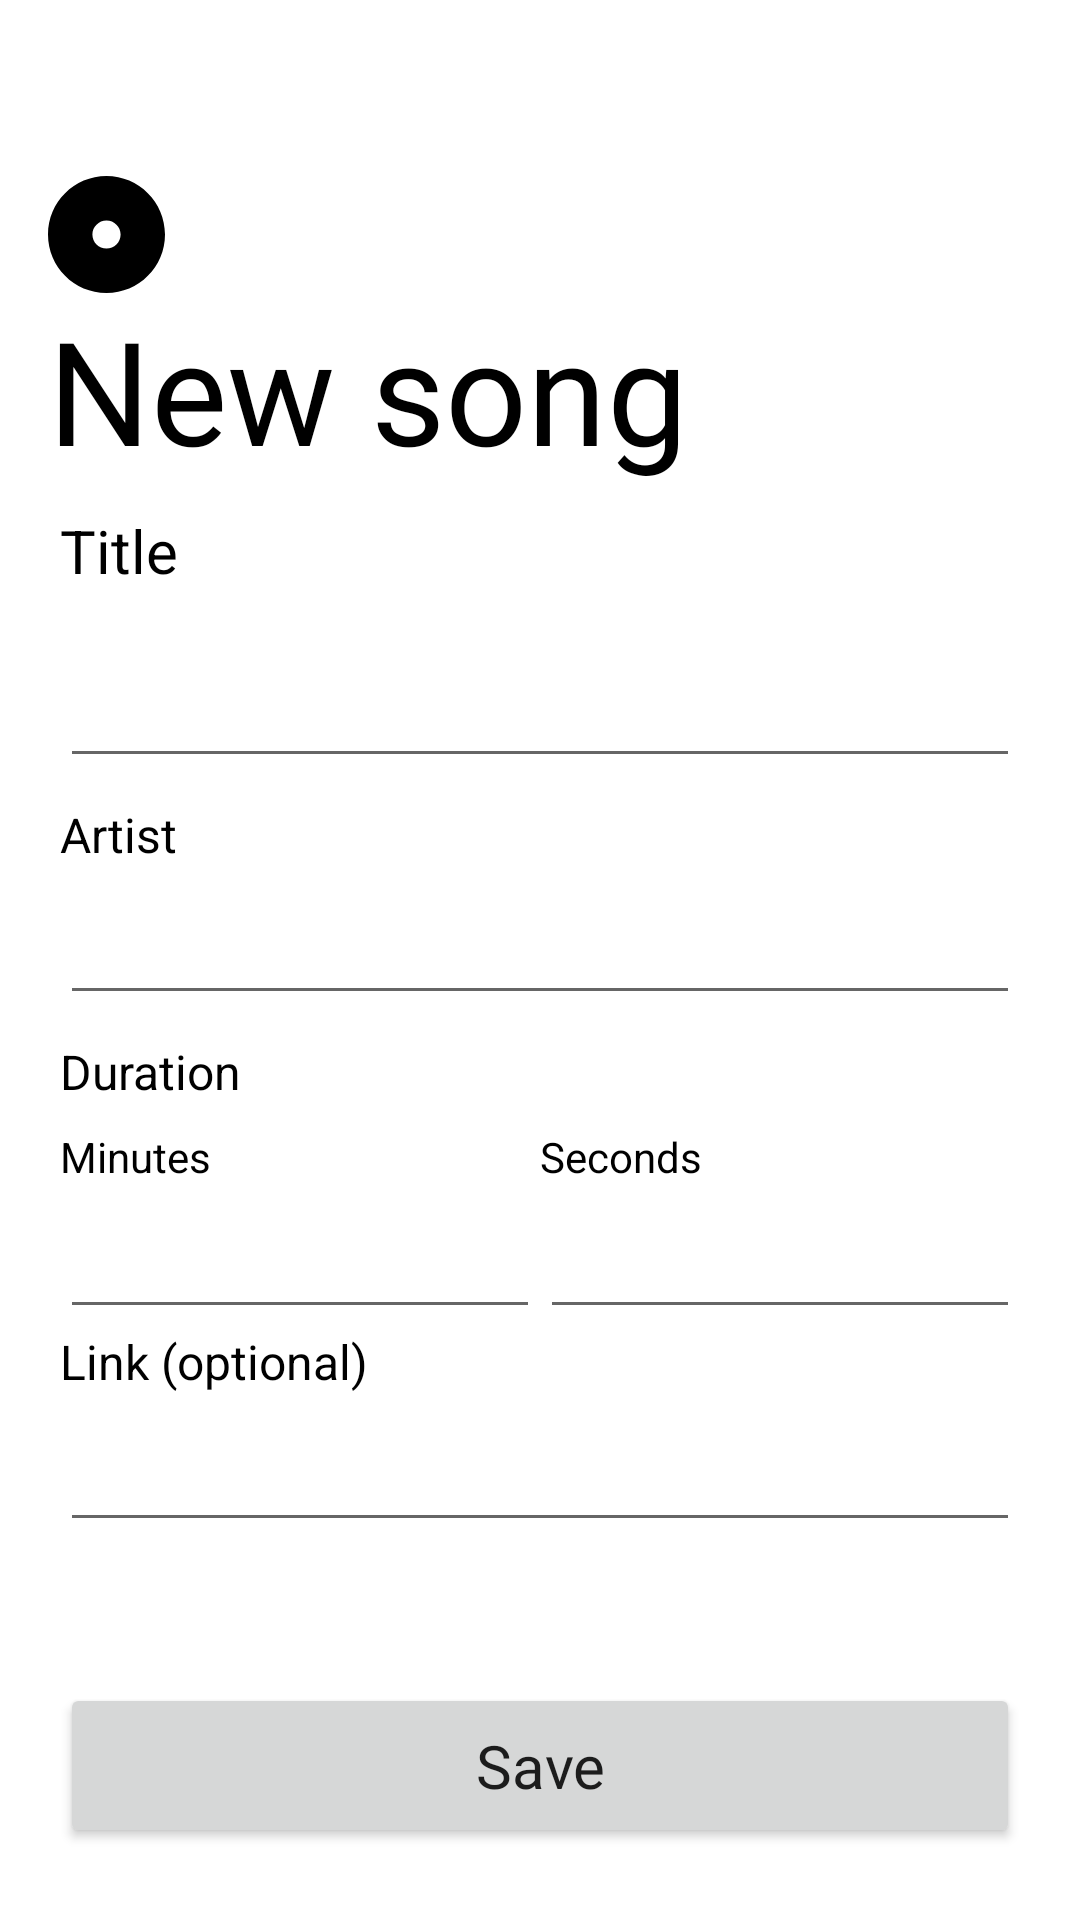

Named icons in this screenshot (1080×1920) and their centers, (x=x, y=y):
disc: (x=106, y=234)
